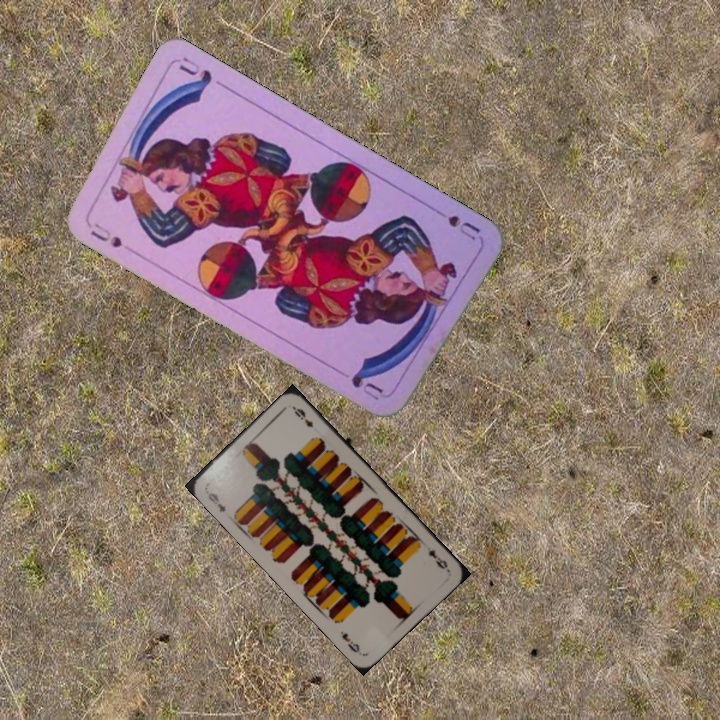E9: (201, 486, 229, 515), (424, 546, 451, 573)
SU: (428, 203, 483, 243), (86, 226, 125, 251)
